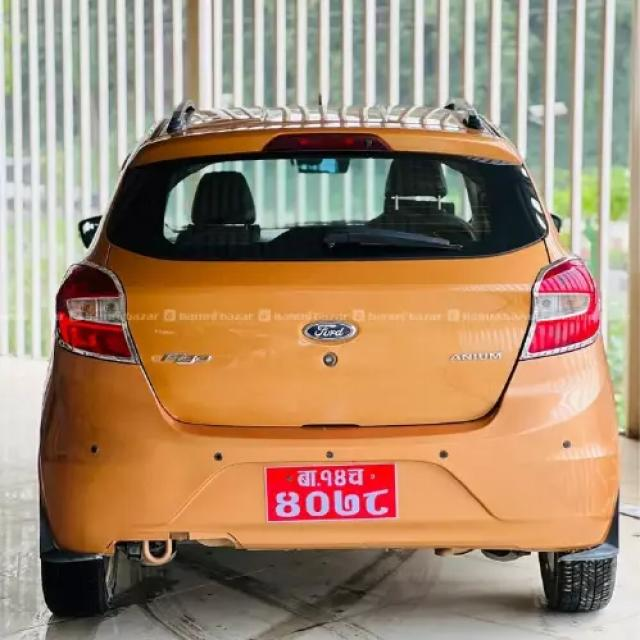License-plate: (262, 464, 403, 523)
